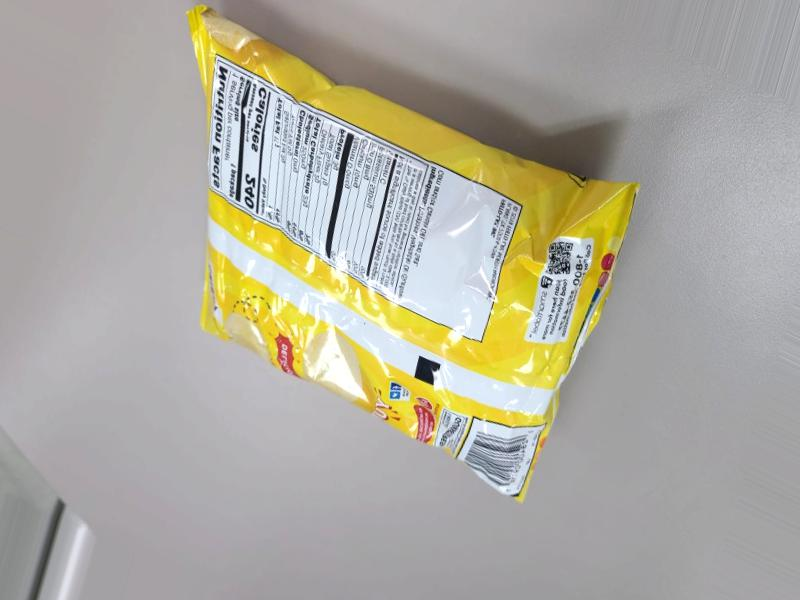lays: (181, 143, 641, 561)
